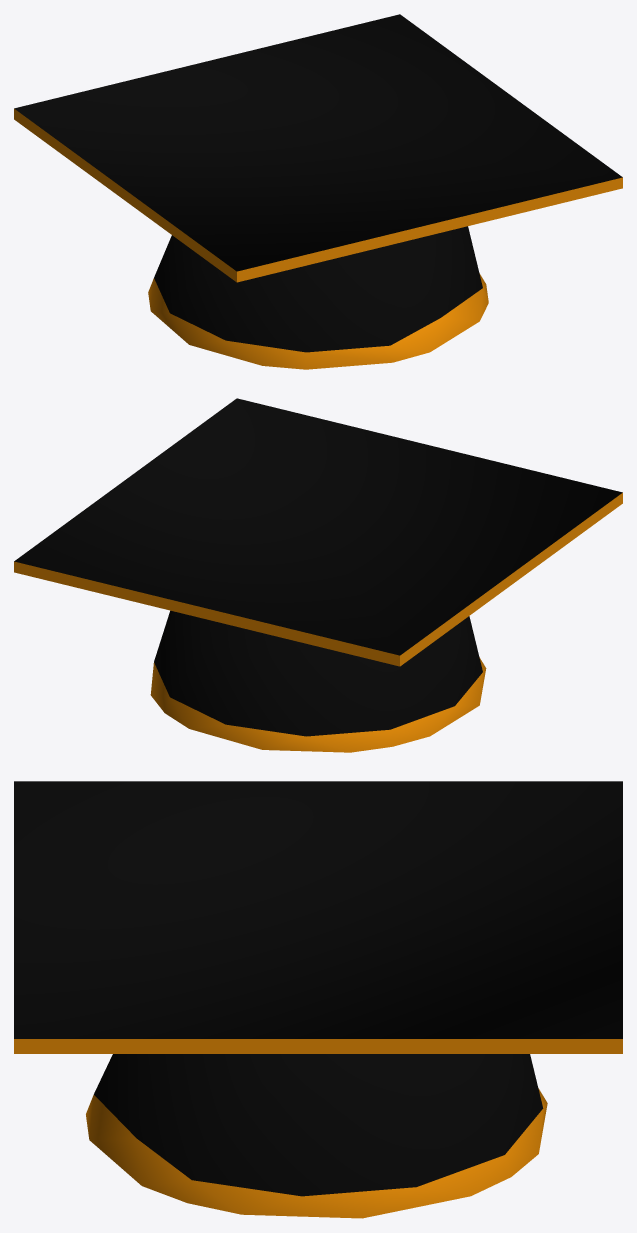
The model's file is Graduation Cap.FBX.
The picture shows the model from 3 angles, top to bottom: view 1: azimuth 30°, elevation 25°; view 2: azimuth 150°, elevation 25°; view 3: azimuth 270°, elevation 25°; orthographic projection. The views are drawn at different scales.
Visible parts, largest first — view 1: Graduation Cap, Fram; view 2: Graduation Cap, Fram; view 3: Graduation Cap, Fram.
Boxes of the visible parts, bbox=[...] form: Graduation Cap: bbox=[14, 14, 622, 369]; Fram: bbox=[14, 108, 622, 282]; Graduation Cap: bbox=[14, 398, 622, 752]; Fram: bbox=[14, 493, 622, 666]; Graduation Cap: bbox=[14, 781, 622, 1218]; Fram: bbox=[14, 1039, 622, 1053].
Size of the model in its own units: 10.88 by 4.17 by 10.88.
